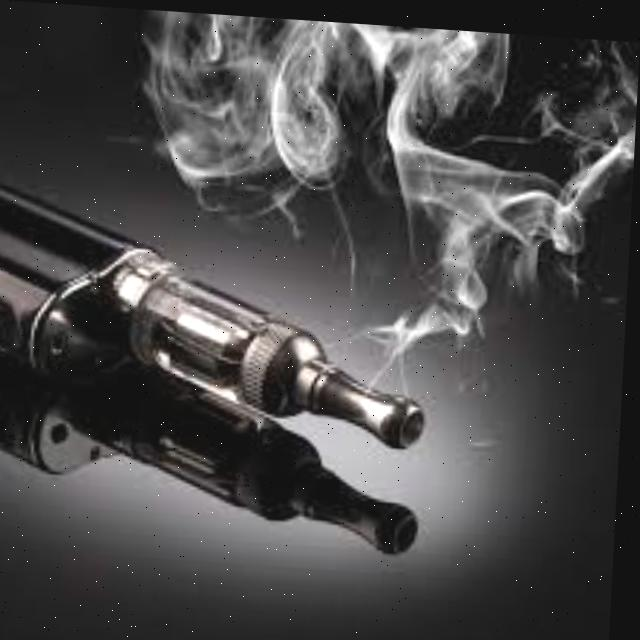vape: (0, 174, 442, 446)
